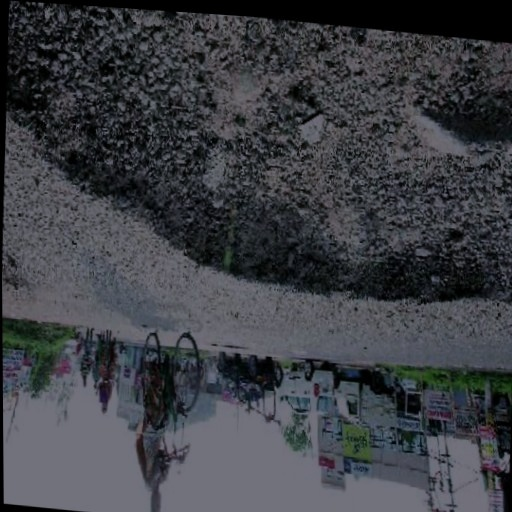pothole: (0, 0, 512, 319)
